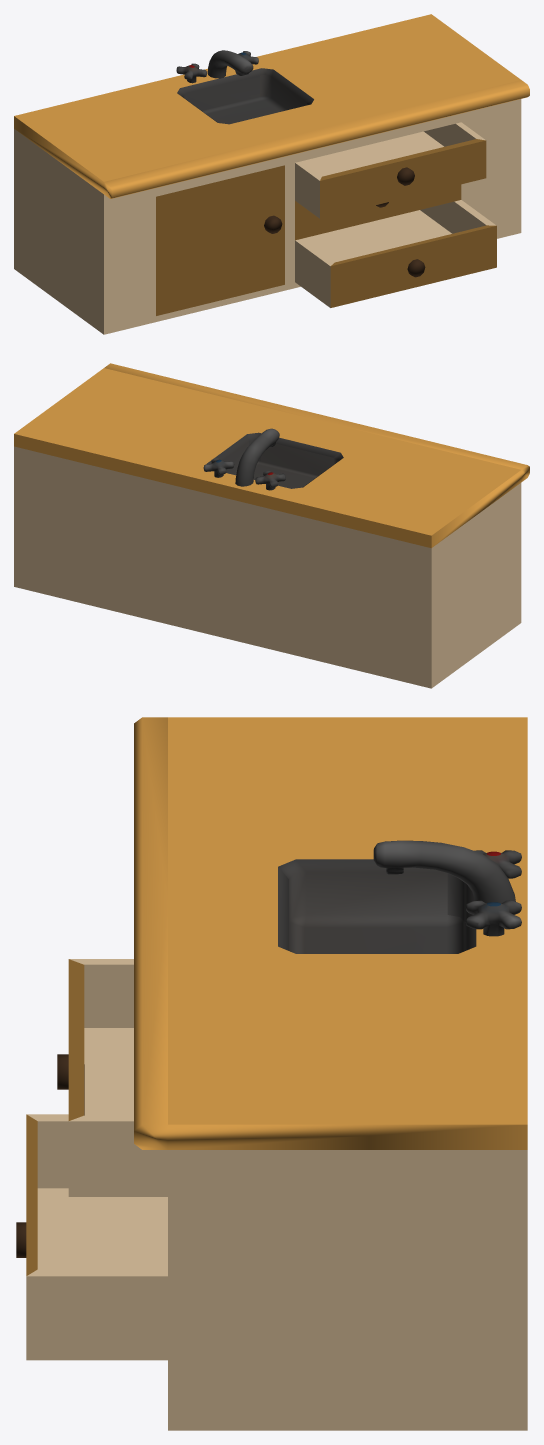
The model's file is Kitchenbench.fbx.
The picture shows the model from 3 angles, top to bottom: view 1: azimuth 30°, elevation 25°; view 2: azimuth 150°, elevation 25°; view 3: azimuth 270°, elevation 25°; orthographic projection. The views are drawn at different scales.
Parts seen in each view (by area): view 1: KitchenBench; view 2: KitchenBench; view 3: KitchenBench.
Part boxes in pixels (left/top/right/bottom): KitchenBench: left=14, top=14, right=529, bottom=334; KitchenBench: left=14, top=363, right=529, bottom=688; KitchenBench: left=16, top=717, right=527, bottom=1430.
Size of the model in its own units: 4507 by 1913 by 2392.
